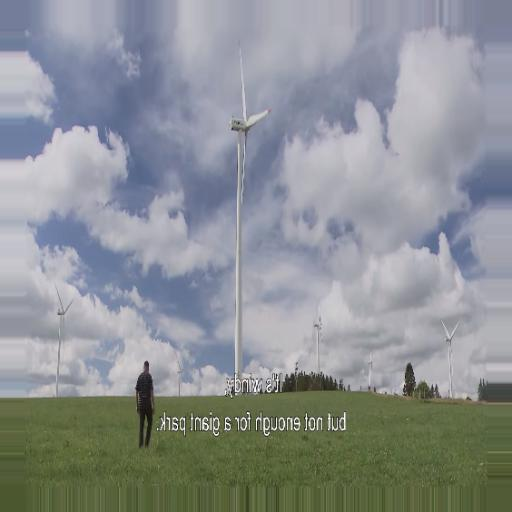wind turbine: (221, 44, 273, 391), (51, 285, 77, 395), (441, 320, 464, 399)
